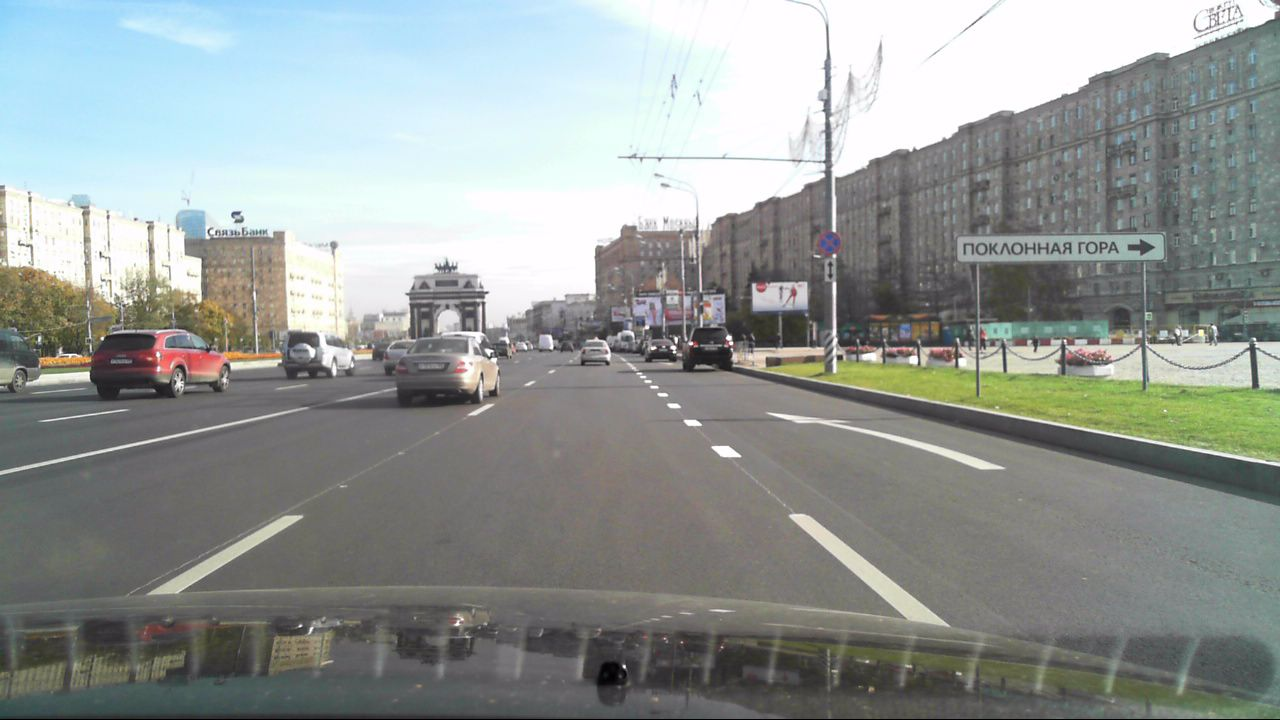No Parking: (816, 230, 842, 254)
